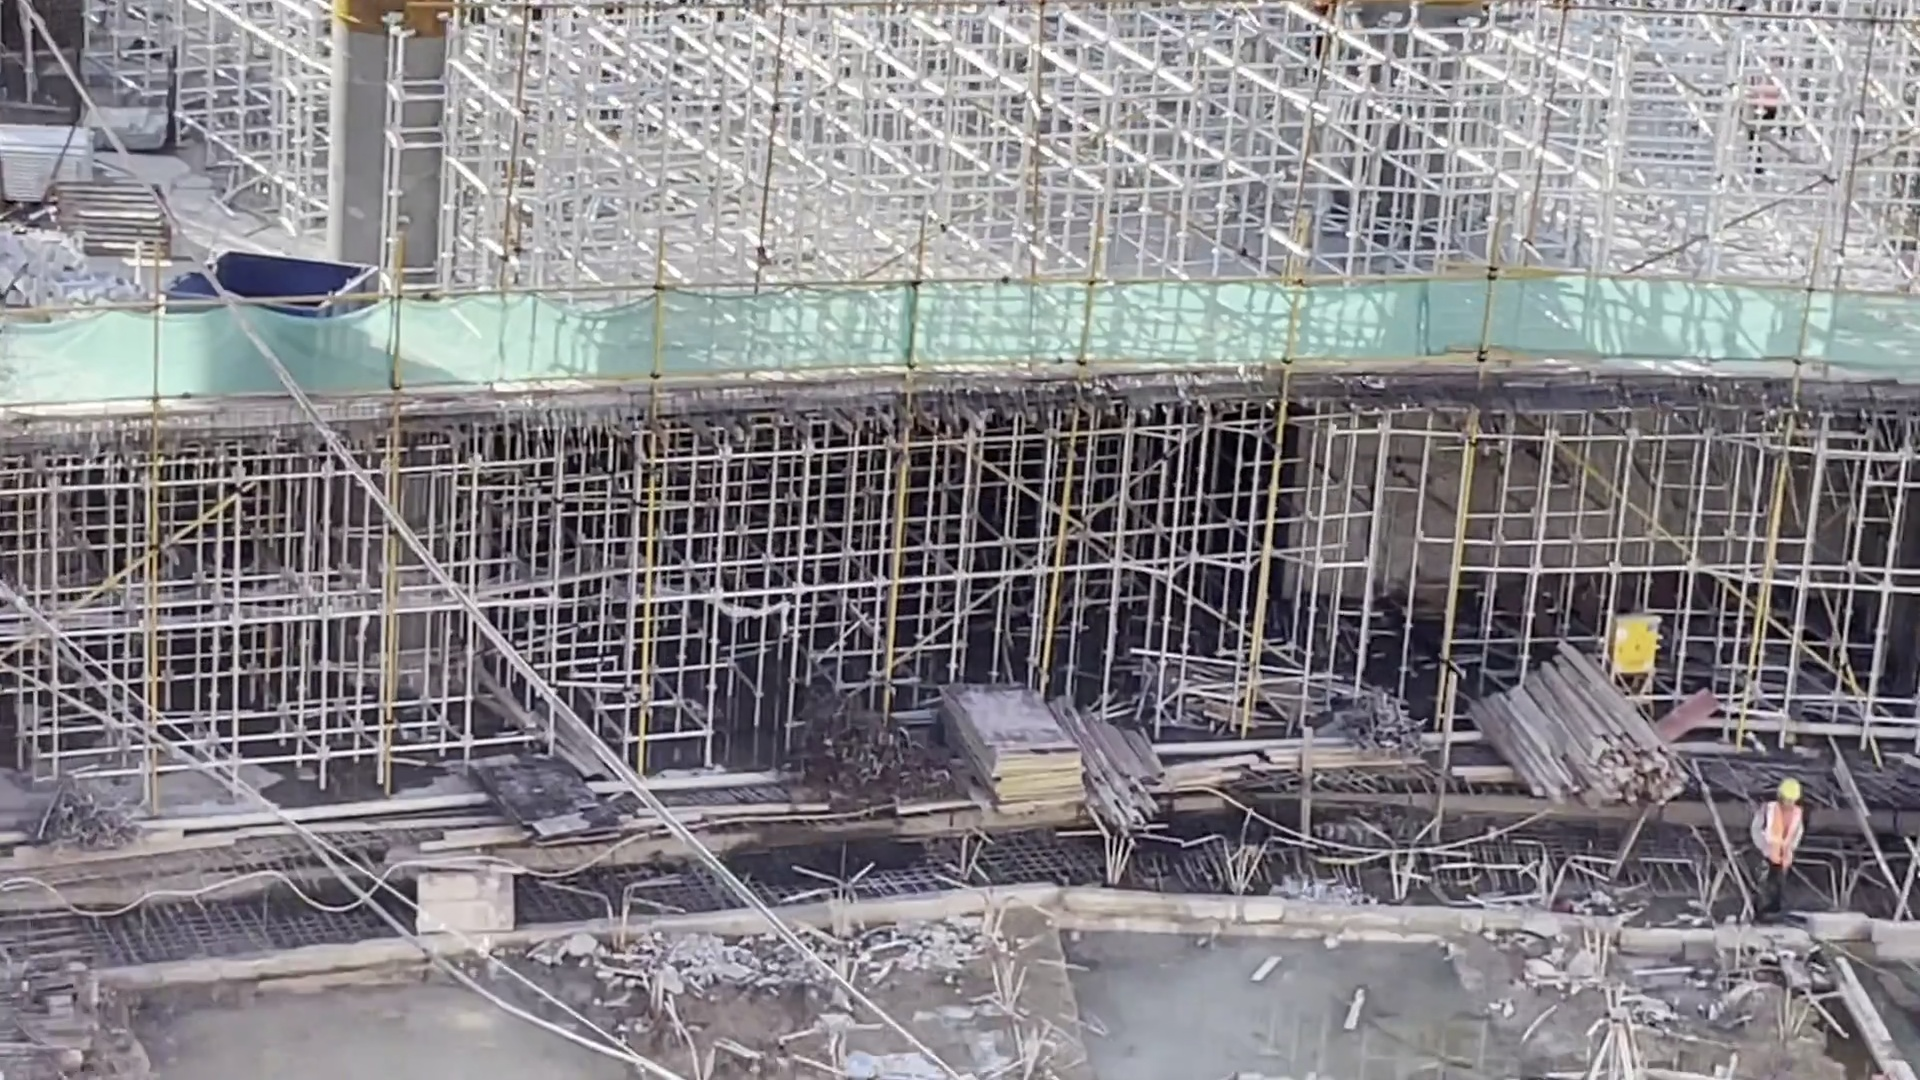board: (936, 674, 1093, 815)
ebox: (1614, 609, 1658, 683)
helmet: (1777, 777, 1801, 802)
hopper: (156, 248, 387, 293)
person: (1745, 775, 1807, 915)
scaffold: (1, 126, 71, 209)
vest: (1764, 801, 1804, 872)
wood: (1466, 642, 1697, 819), (1085, 694, 1174, 846)
